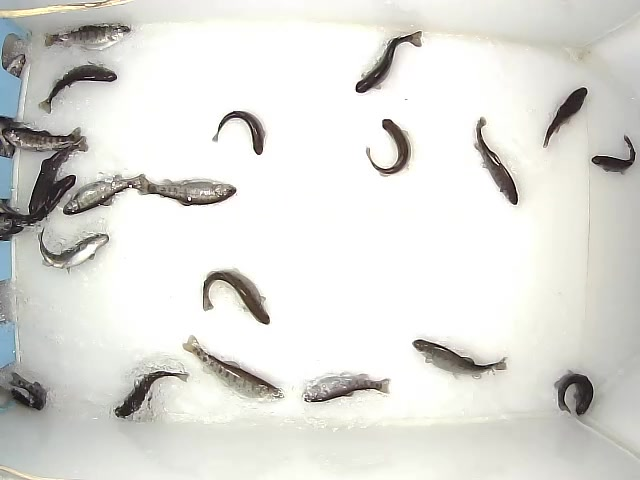fish: (182, 335, 285, 403), (29, 136, 89, 216), (38, 61, 117, 114), (356, 31, 422, 93), (474, 116, 518, 205), (203, 268, 270, 325), (412, 339, 507, 379), (114, 371, 190, 419), (38, 226, 109, 274), (63, 174, 146, 215), (16, 175, 76, 225), (138, 175, 236, 205), (543, 87, 588, 148), (366, 119, 411, 177), (302, 374, 391, 403), (212, 111, 266, 155), (44, 24, 132, 51), (2, 127, 84, 151), (554, 369, 594, 416), (591, 134, 636, 175), (8, 372, 47, 411)
